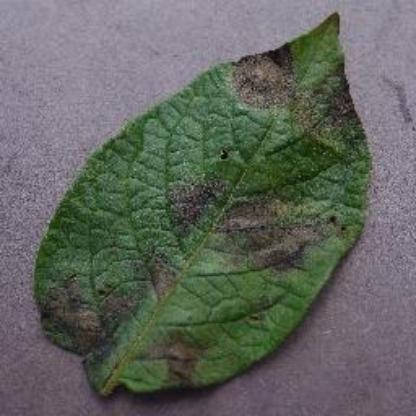Late-Blight: (30, 8, 374, 400)
